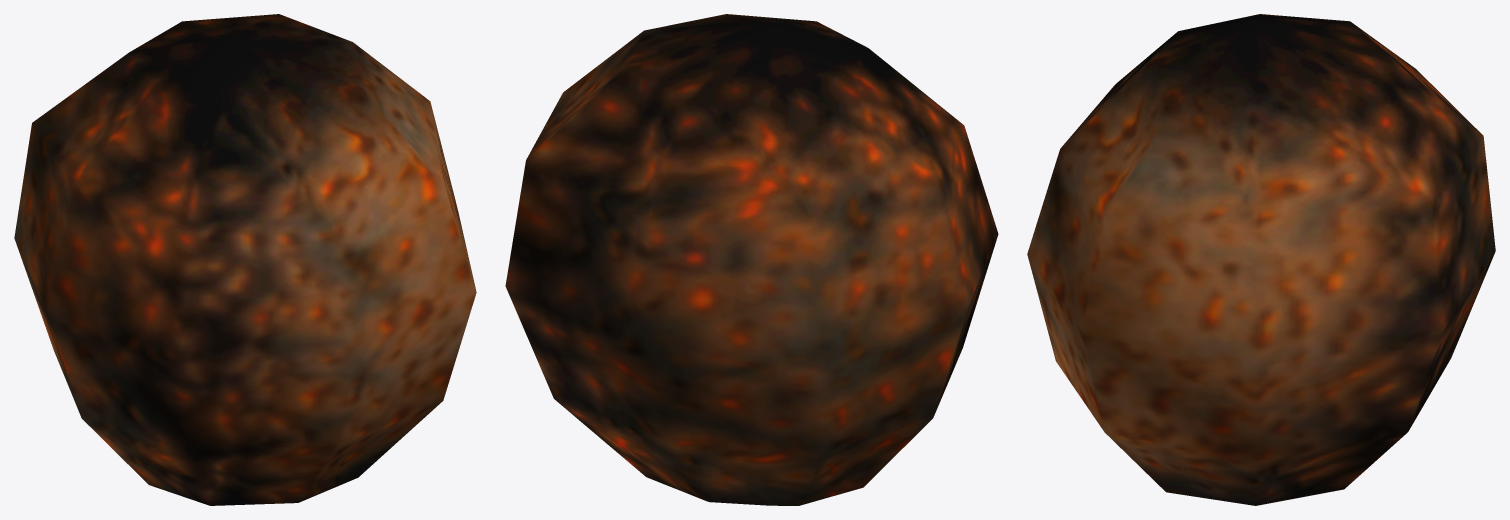
The model's file is bgrnd51_static.obj.
The picture shows the model from 3 angles, left to right: view 1: azimuth 30°, elevation 25°; view 2: azimuth 150°, elevation 25°; view 3: azimuth 270°, elevation 25°; orthographic projection. The views are drawn at different scales.
Parts seen in each view (by area): view 1: frm-bgrnd51; view 2: frm-bgrnd51; view 3: frm-bgrnd51.
Boxes of the visible parts, box(x1,y1,x2,y2) form: frm-bgrnd51: box(14, 14, 476, 505); frm-bgrnd51: box(505, 14, 998, 505); frm-bgrnd51: box(1027, 14, 1495, 505).
Size of the model in its own units: 6.69 by 7.18 by 6.47.
